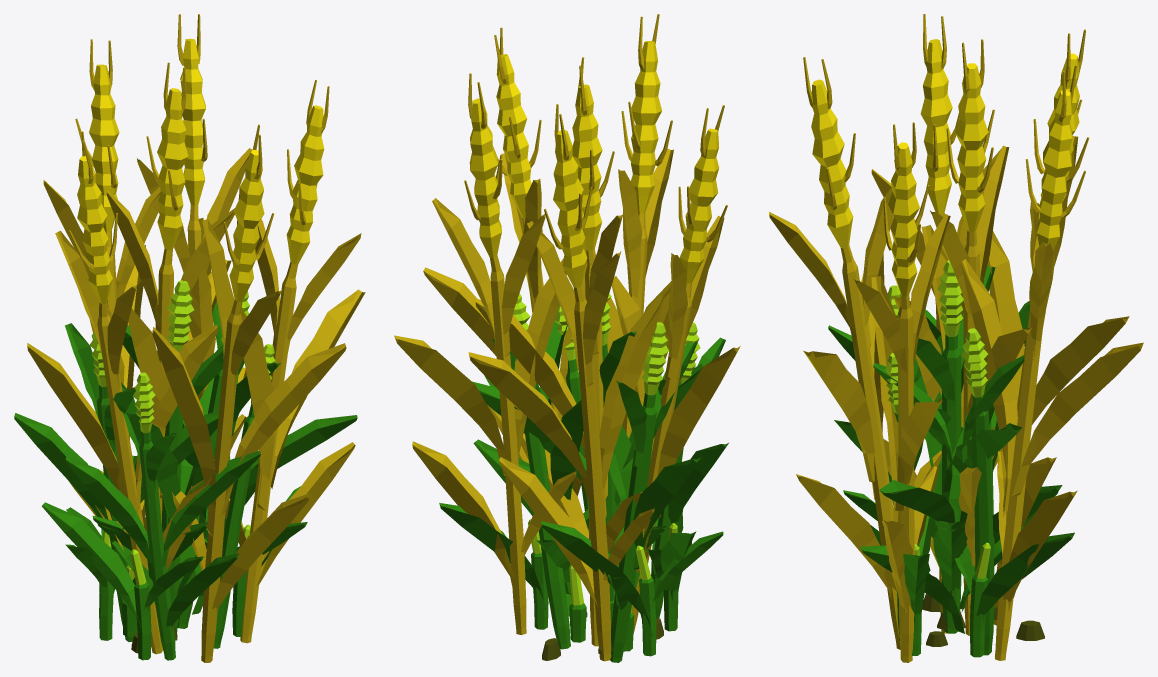
Rendered from trigo.glb.
The picture shows the model from 3 angles, left to right: view 1: azimuth 30°, elevation 25°; view 2: azimuth 150°, elevation 25°; view 3: azimuth 270°, elevation 25°; orthographic projection. The views are drawn at different scales.
Visible parts, largest first — view 1: stage_5, stage_4, stage_3; view 2: stage_5, stage_4, stage_3, stage_2, stage_1; view 3: stage_5, stage_4, stage_3, stage_1.
Part boxes in pixels (left/top/right/bottom): stage_5: left=27, top=14, right=365, bottom=662; stage_4: left=14, top=280, right=357, bottom=660; stage_3: left=42, top=455, right=300, bottom=660; stage_5: left=394, top=14, right=740, bottom=661; stage_4: left=472, top=293, right=728, bottom=662; stage_3: left=439, top=439, right=723, bottom=656; stage_2: left=569, top=564, right=634, bottom=651; stage_1: left=542, top=612, right=663, bottom=660; stage_5: left=769, top=14, right=1143, bottom=662; stage_4: left=828, top=260, right=1058, bottom=655; stage_3: left=843, top=485, right=1074, bottom=657; stage_1: left=922, top=593, right=1044, bottom=646.
Bounding box in the file's own units: 1.2 × 2.04 × 1.13.
